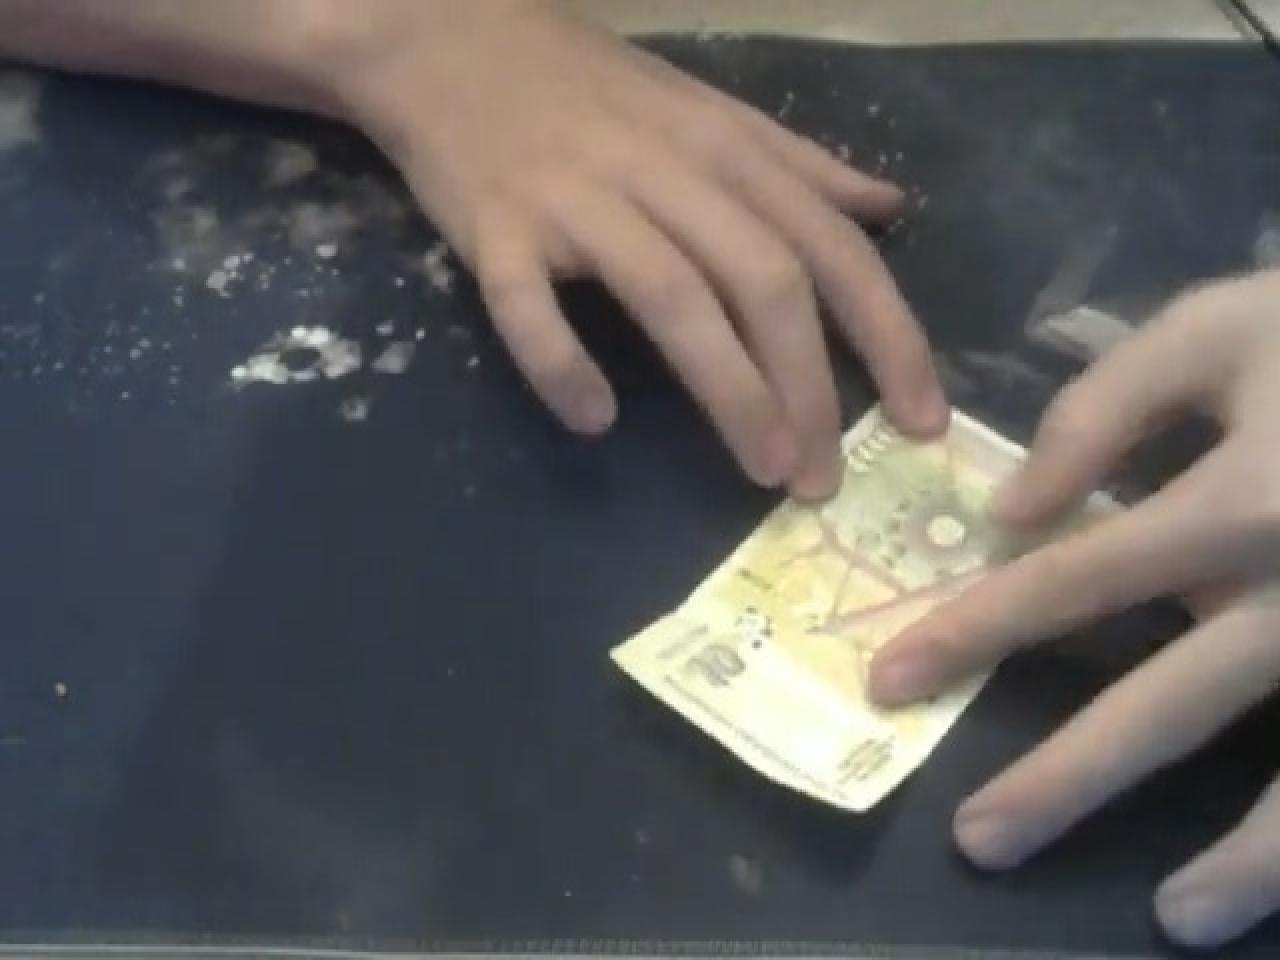10leva: (612, 413, 1024, 821)
